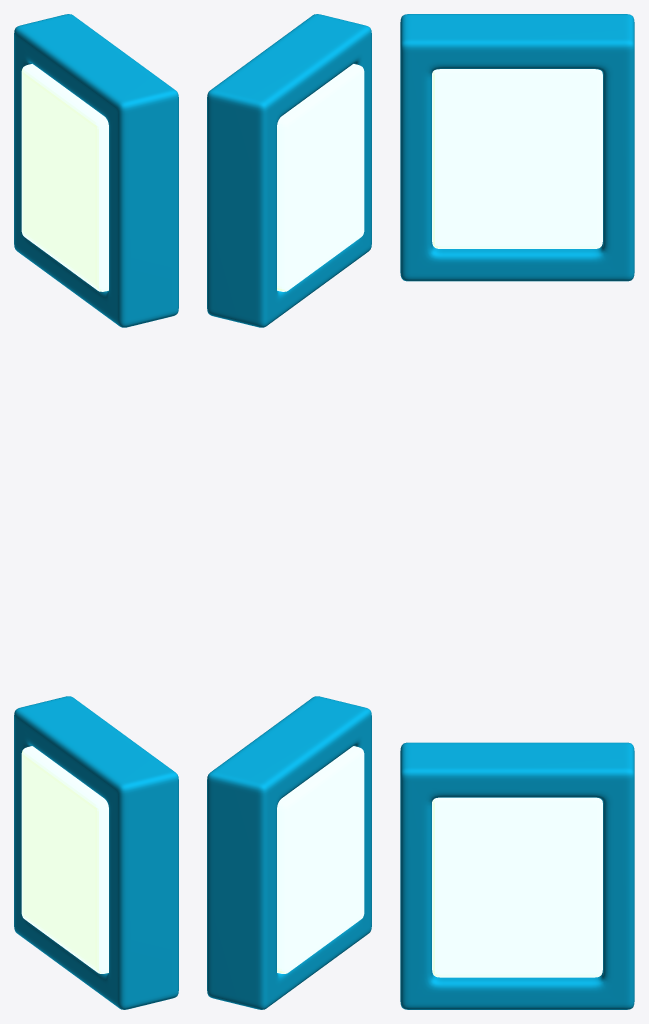
File: SM_Clay_Window_04.fbx
3 views of the same model, side by side, from view 1: azimuth 30°, elevation 25°; view 2: azimuth 150°, elevation 25°; view 3: azimuth 270°, elevation 25° (orthographic). The views are drawn at different scales.
Visible parts, largest first — view 1: SM_Clay_Window_04; view 2: SM_Clay_Window_04; view 3: SM_Clay_Window_04.
Part boxes in pixels (x1,y1,x2,y2): SM_Clay_Window_04: (14,14,178,1009); SM_Clay_Window_04: (207,14,371,1009); SM_Clay_Window_04: (400,14,634,1009).
Bounding box in the file's own units: 0.258 × 3.35 × 0.7333.
